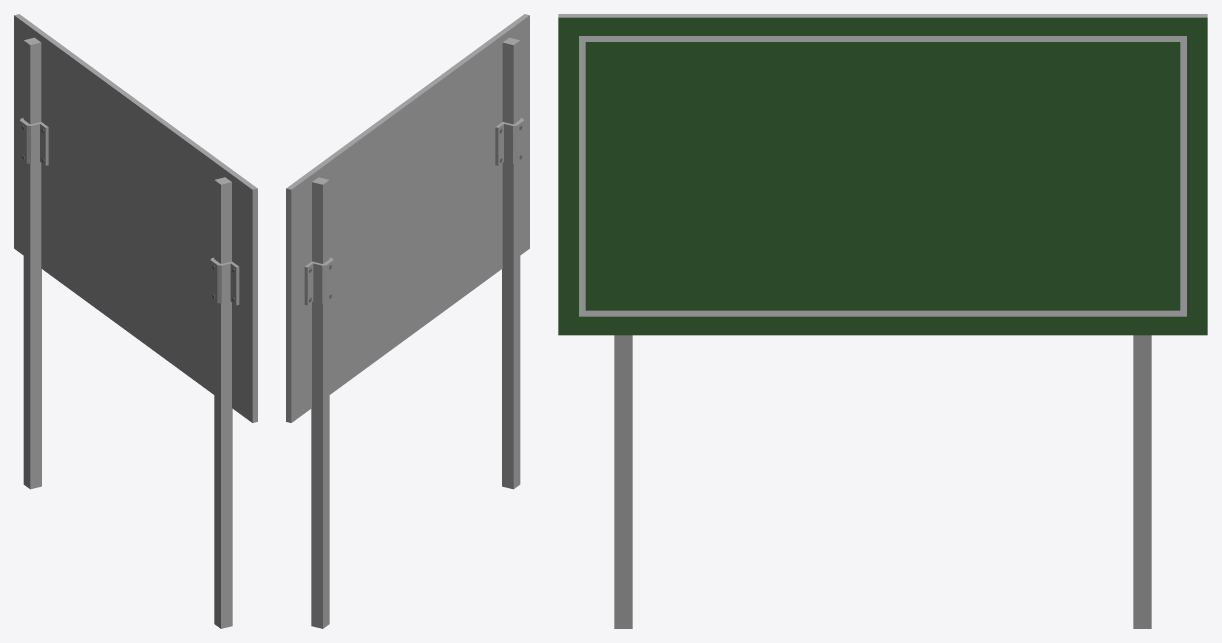
The model's file is SM_road_sign_7.gltf.
3 views of the same model, side by side, from view 1: azimuth 30°, elevation 25°; view 2: azimuth 150°, elevation 25°; view 3: azimuth 270°, elevation 25° (orthographic). The views are drawn at different scales.
Parts seen in each view (by area): view 1: SM_road_sign_7; view 2: SM_road_sign_7; view 3: SM_road_sign_7.
Part boxes in pixels (x1,y1,x2,y2): SM_road_sign_7: (14, 14, 257, 628); SM_road_sign_7: (286, 14, 529, 628); SM_road_sign_7: (558, 14, 1207, 628).
Bounding box in the file's own units: 0.0836 × 1.75 × 1.68.
1 material, 1 textured.
